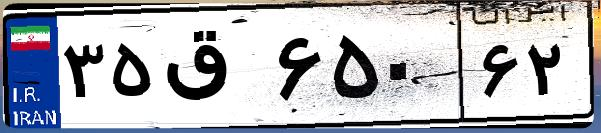0: (385, 28, 445, 110)
2: (525, 38, 570, 115)
3: (57, 26, 110, 100)
5: (330, 28, 385, 110), (110, 28, 158, 98)
6: (270, 28, 330, 110), (475, 38, 525, 113)
ق: (158, 20, 270, 120)
